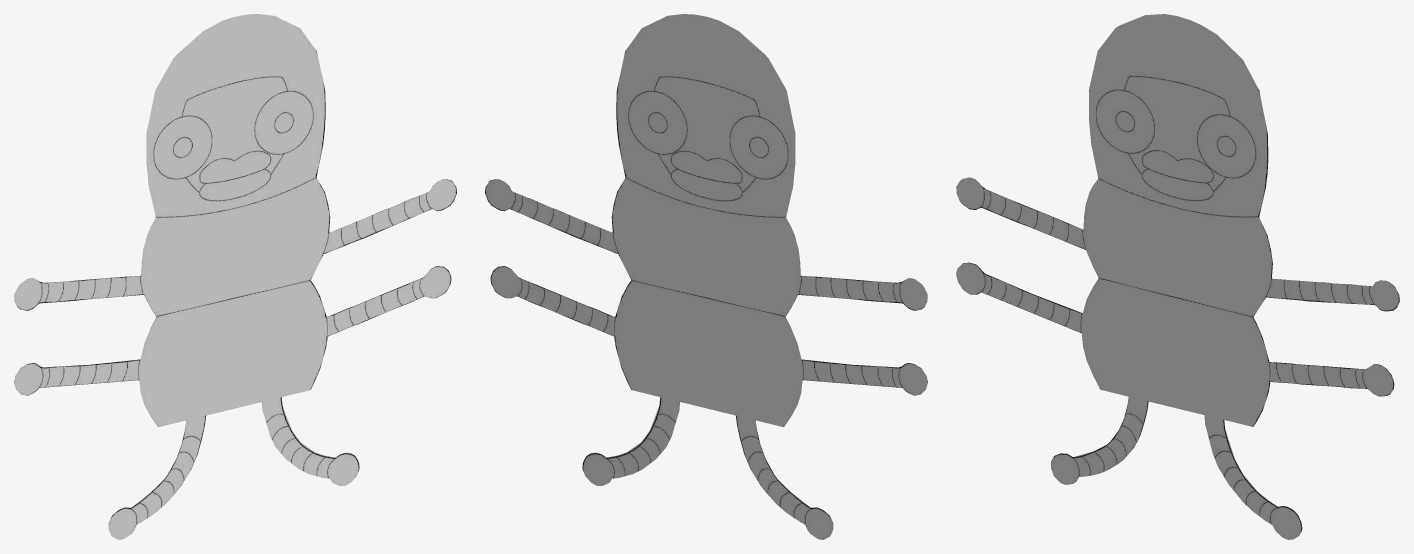
The model's file is 21_eongful-01_fix.fbx.
3 views of the same model, side by side, from view 1: azimuth 30°, elevation 25°; view 2: azimuth 150°, elevation 25°; view 3: azimuth 330°, elevation 25° (orthographic).
Visible parts, largest first — view 1: planarTrimmedSurface18; view 2: planarTrimmedSurface18; view 3: planarTrimmedSurface18.
Part boxes in pixels (box(x1,y1,x2,y2)): planarTrimmedSurface18: box(14, 14, 456, 539); planarTrimmedSurface18: box(485, 14, 927, 539); planarTrimmedSurface18: box(956, 14, 1399, 539).
Size of the model in its own units: 8.7 by 9.31 by 0.0129.
Materials: 1 (1 with a texture image).
